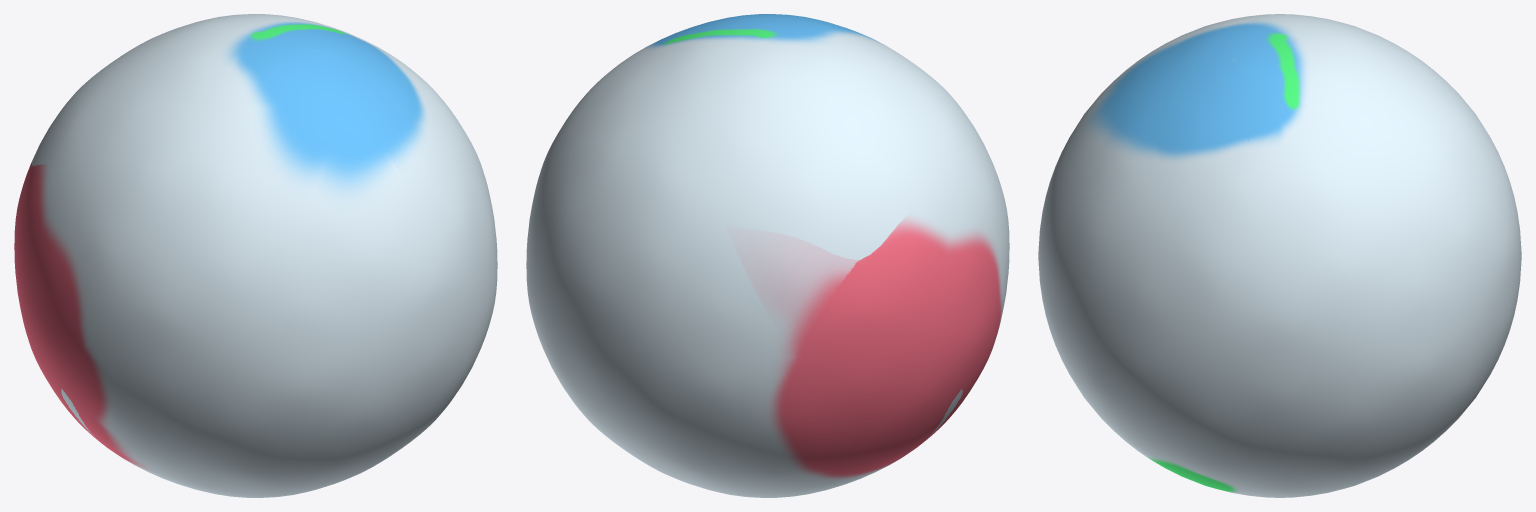
File: Planet_Frozen.fbx
The picture shows the model from 3 angles, left to right: view 1: azimuth 30°, elevation 25°; view 2: azimuth 150°, elevation 25°; view 3: azimuth 270°, elevation 25°; orthographic projection.
Visible parts, largest first — view 1: Icosphere; view 2: Icosphere; view 3: Icosphere.
Boxes of the visible parts, x1,y1,x2,y2 form: Icosphere: (14, 14, 497, 497); Icosphere: (526, 14, 1009, 497); Icosphere: (1038, 14, 1521, 497).
Size of the model in its own units: 194 by 195 by 194.
